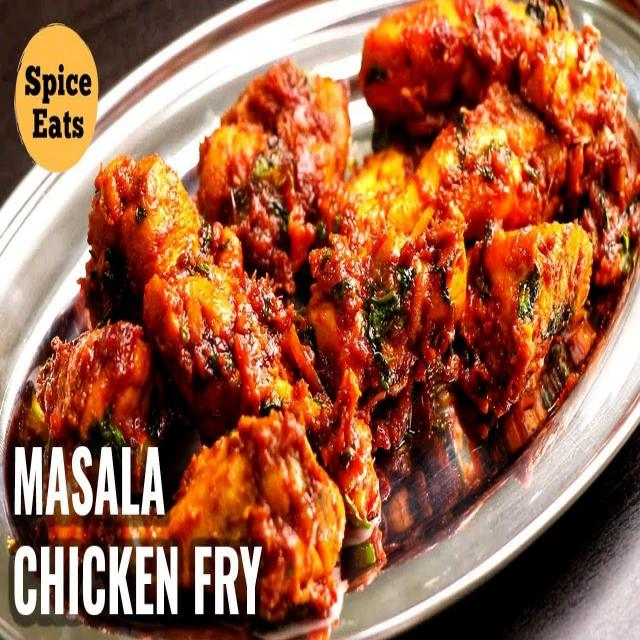chicken: (16, 24, 628, 624)
